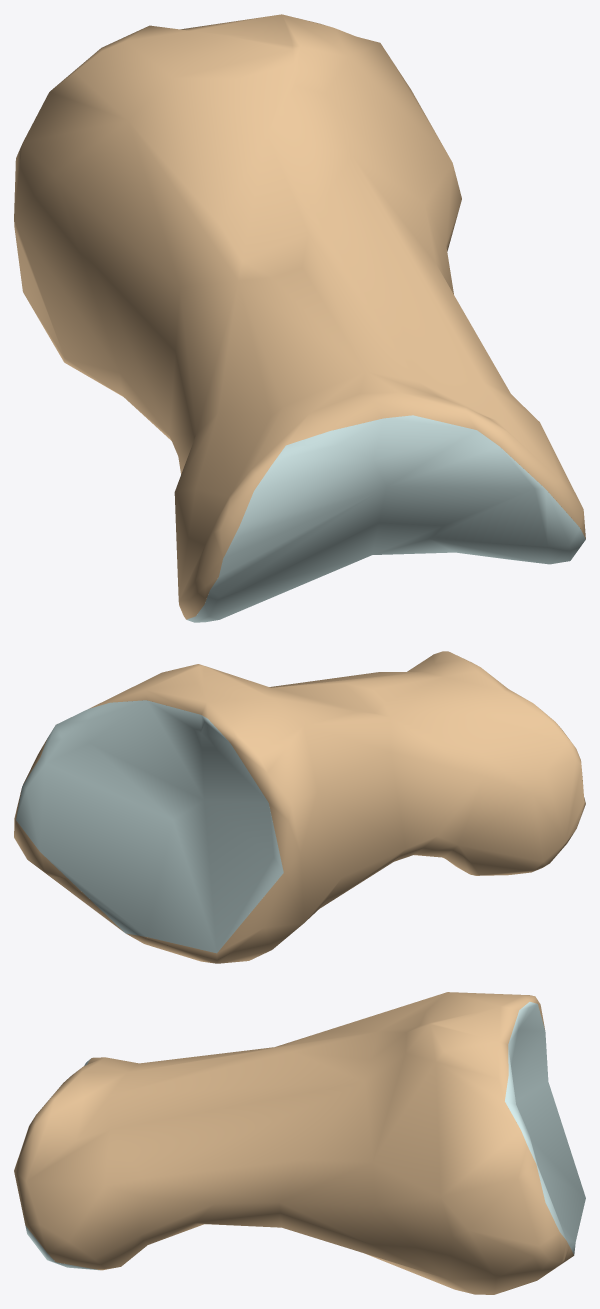
File: Phalanx_proximal_1st_finger_foot_right.glb
3 renders of one model, top to bottom at view 1: azimuth 30°, elevation 25°; view 2: azimuth 150°, elevation 25°; view 3: azimuth 270°, elevation 25°, orthographic. The views are drawn at different scales.
Visible parts, largest first — view 1: Proximal_phalanx_of_1st_finger_of_foot.r_Generated_Mesh_From; view 2: Proximal_phalanx_of_1st_finger_of_foot.r_Generated_Mesh_From; view 3: Proximal_phalanx_of_1st_finger_of_foot.r_Generated_Mesh_From.
Part boxes in pixels (bbox=[...]): Proximal_phalanx_of_1st_finger_of_foot.r_Generated_Mesh_From: bbox=[14, 14, 585, 622]; Proximal_phalanx_of_1st_finger_of_foot.r_Generated_Mesh_From: bbox=[14, 651, 585, 963]; Proximal_phalanx_of_1st_finger_of_foot.r_Generated_Mesh_From: bbox=[14, 992, 585, 1294].
Bounding box in the file's own units: 0.0261 × 0.0177 × 0.0345.
